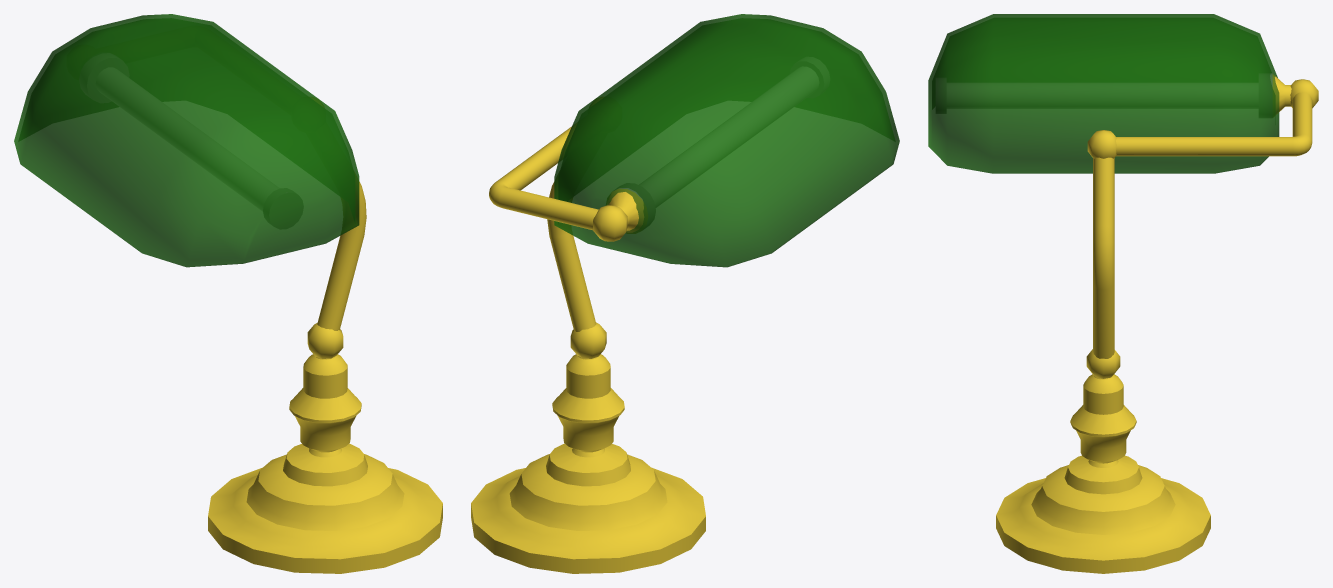
The model's file is library_lamp.glb.
The picture shows the model from 3 angles, left to right: view 1: azimuth 30°, elevation 25°; view 2: azimuth 150°, elevation 25°; view 3: azimuth 270°, elevation 25°; orthographic projection. The views are drawn at different scales.
Visible parts, largest first — view 1: GreenGlasThing, LibraryLamp; view 2: GreenGlasThing, LibraryLamp; view 3: GreenGlasThing, LibraryLamp.
Boxes of the visible parts, box(x1,y1,x2,y2) form: GreenGlasThing: box(14, 14, 359, 267); LibraryLamp: box(208, 181, 442, 573); GreenGlasThing: box(554, 14, 899, 267); LibraryLamp: box(471, 126, 705, 573); GreenGlasThing: box(928, 14, 1279, 173); LibraryLamp: box(996, 73, 1318, 573).
Bounding box in the file's own units: 0.1294 × 0.174 × 0.1392.
